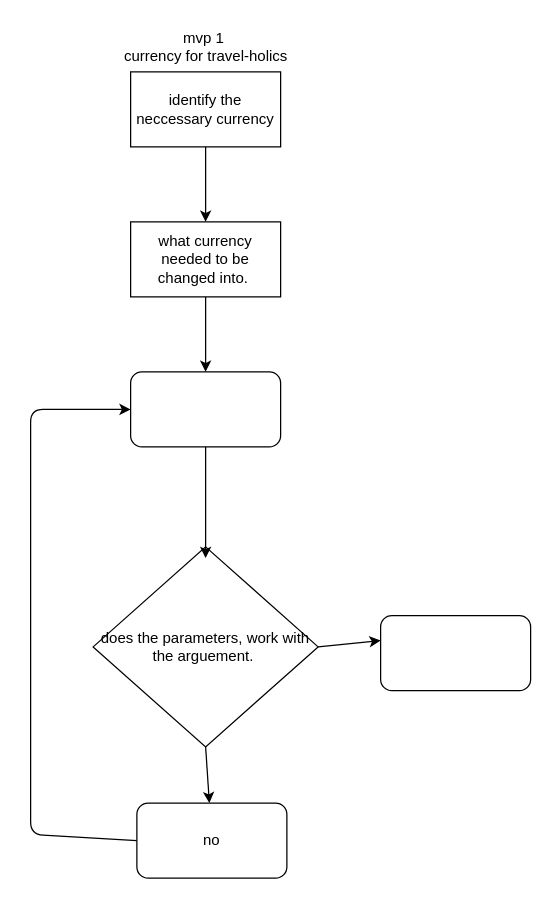
Image size: 553x900. Some labels were removed from this diagram. The centre of each missing label's shape, as x and y in pixels:
is there a function which returnes a defined result: the point at 205,409
the output works: the point at 455,652
